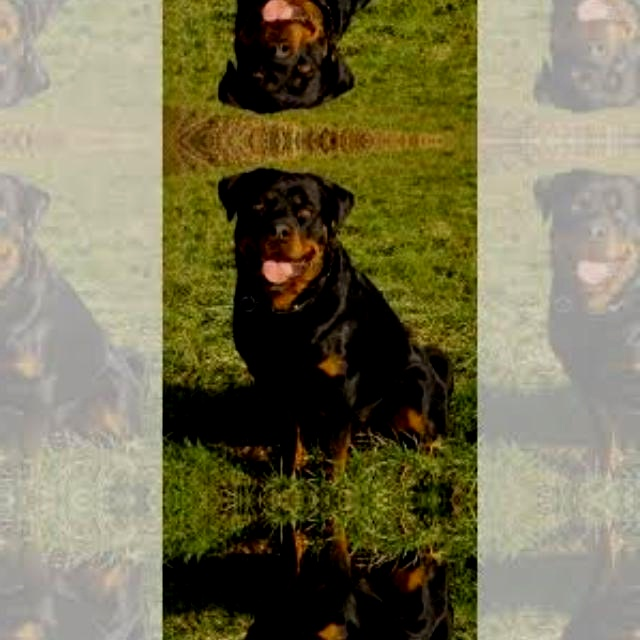dog: (203, 158, 378, 312), (204, 0, 379, 122)
